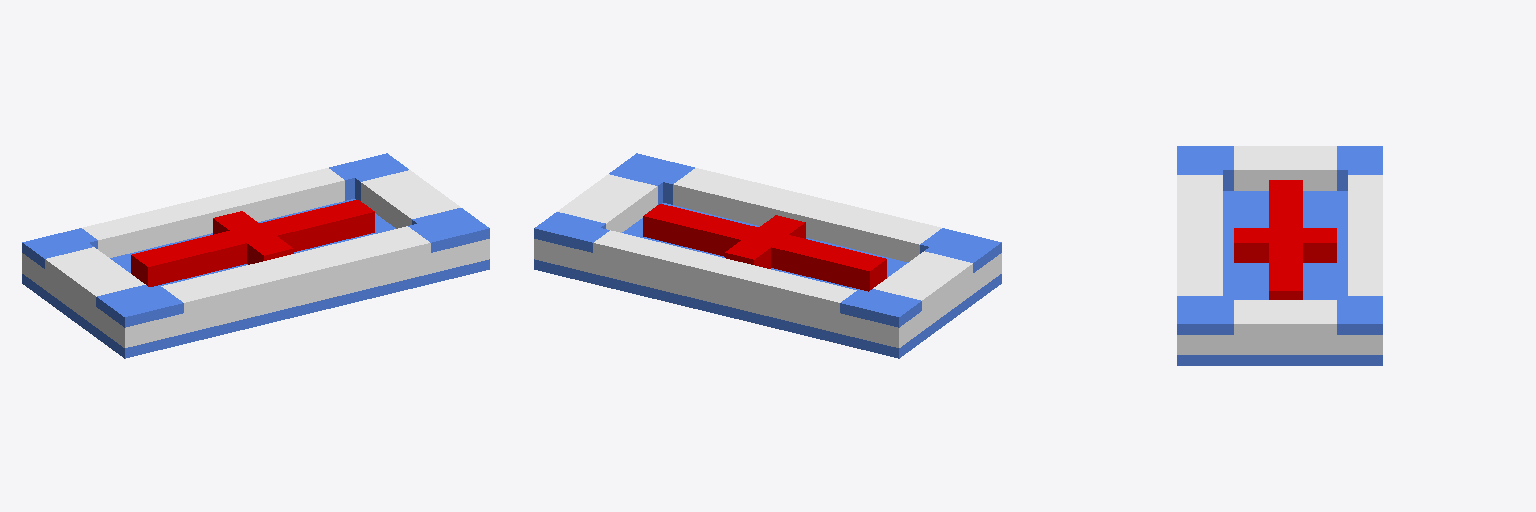
The picture shows the model from 3 angles: view 1: azimuth 30°, elevation 25°; view 2: azimuth 150°, elevation 25°; view 3: azimuth 270°, elevation 25°; orthographic projection.
Parts seen in each view (by area): view 1: Model; view 2: Model; view 3: Model.
Part boxes in pixels (x1,y1,x2,y2): Model: (22,153,489,358); Model: (534,153,1001,358); Model: (1177,146,1382,365).
Size of the model in its own units: 32 by 3.46 by 15.57.
Materials: 1 (1 with a texture image).